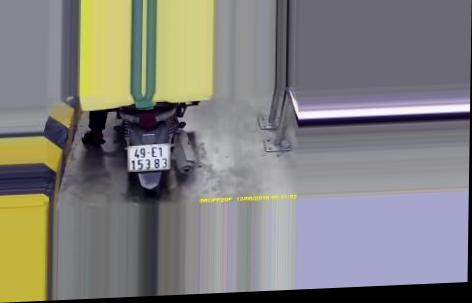License_Plate: (126, 143, 174, 173)
